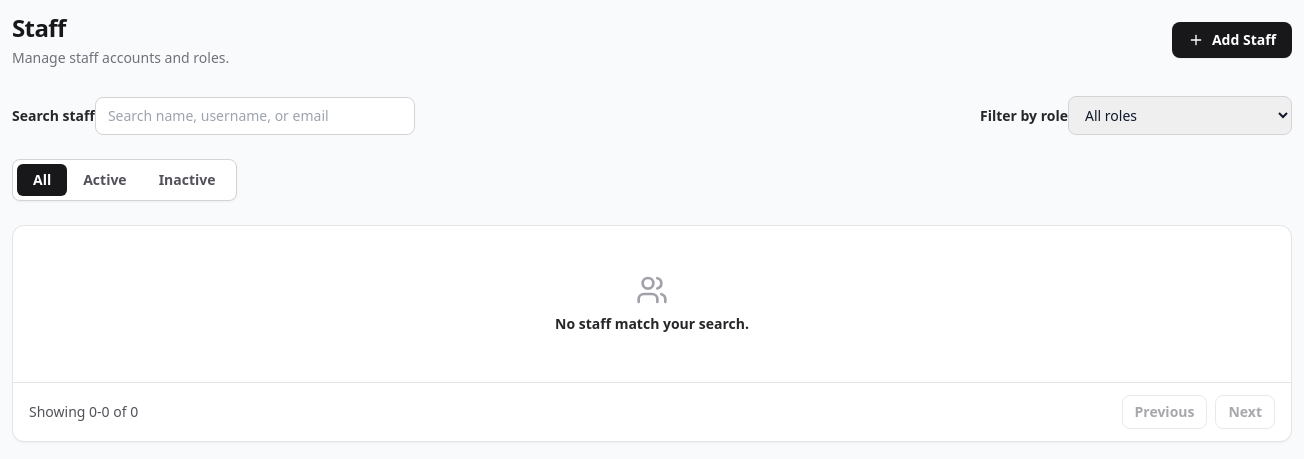
Test: StaffPage (IMS-07) › shows the empty and error states
Expected: the text "No staff match your search." is shown, [555,314,749,333]
Changing the selected status causes a fresh request after the failure setup.
Click the button "Active" at (105, 180), box [67,164,143,196]
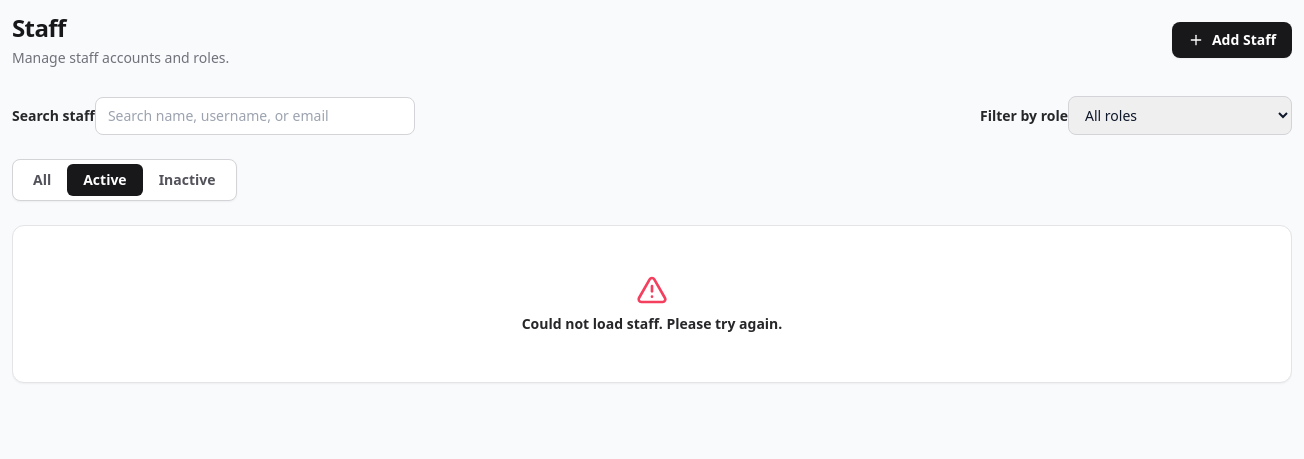
Now the message reads "Could not load staff. Please try again.", box [522,314,782,333]
